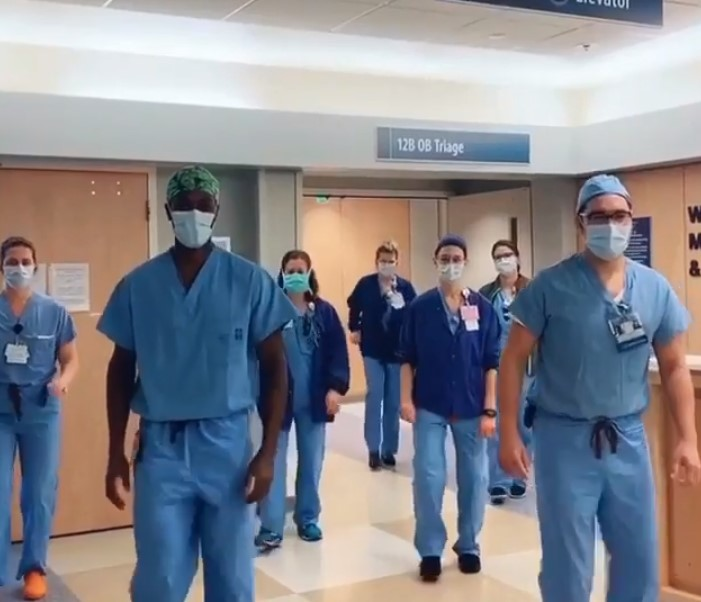face_with_mask: (575, 172, 640, 264), (160, 162, 225, 252), (2, 237, 42, 296), (431, 234, 470, 284), (280, 251, 315, 298), (490, 238, 521, 280), (375, 241, 397, 280)
